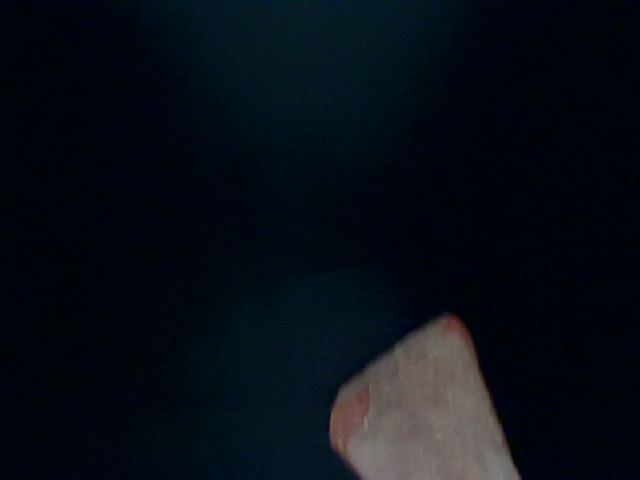KHSLJ: (1, 3, 251, 207)
